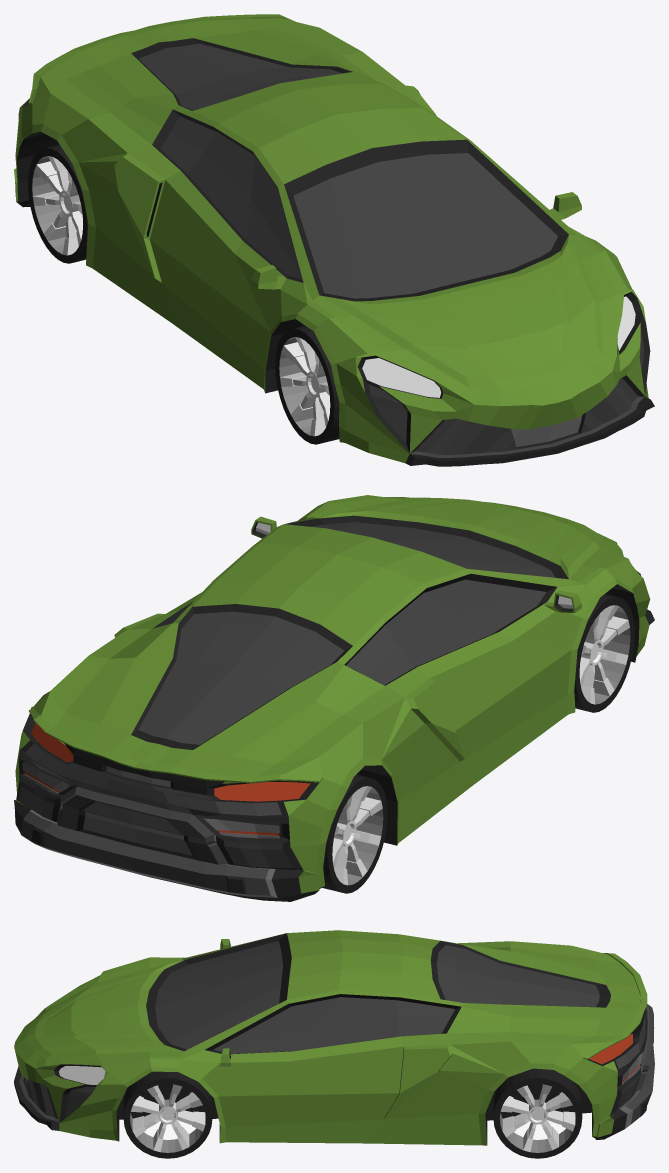
Rendered from mclarenartura.fbx.
3 renders of one model, top to bottom at view 1: azimuth 30°, elevation 25°; view 2: azimuth 150°, elevation 25°; view 3: azimuth 270°, elevation 25°, orthographic. The views are drawn at different scales.
Parts seen in each view (by area): view 1: GreenBody, FrontRight, BackRight; view 2: GreenBody, BackRight, FrontRight; view 3: GreenBody, BackLeft, FrontLeft.
Boxes of the visible parts, left/top/right/bottom form: GreenBody: left=14, top=14, right=654, bottom=466; FrontRight: left=275, top=325, right=339, bottom=444; BackRight: left=28, top=144, right=87, bottom=263; GreenBody: left=14, top=495, right=654, bottom=901; BackRight: left=322, top=774, right=387, bottom=893; FrontRight: left=574, top=594, right=634, bottom=712; GreenBody: left=14, top=930, right=654, bottom=1145; BackLeft: left=493, top=1068, right=582, bottom=1158; FrontLeft: left=123, top=1071, right=212, bottom=1158.
Bounding box in the file's own units: 1.96 × 4.49 × 1.18.
